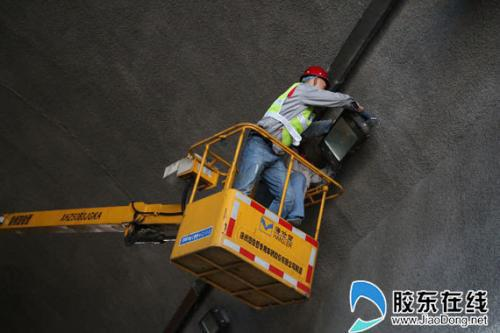helmet: (301, 65, 335, 91)
